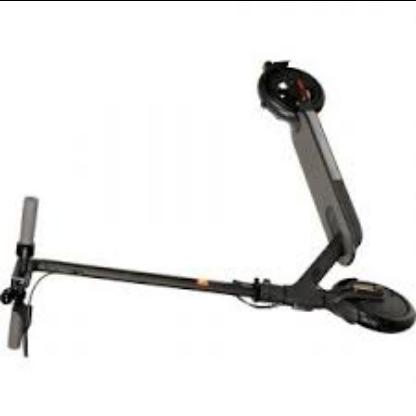bike: (1, 59, 416, 338)
